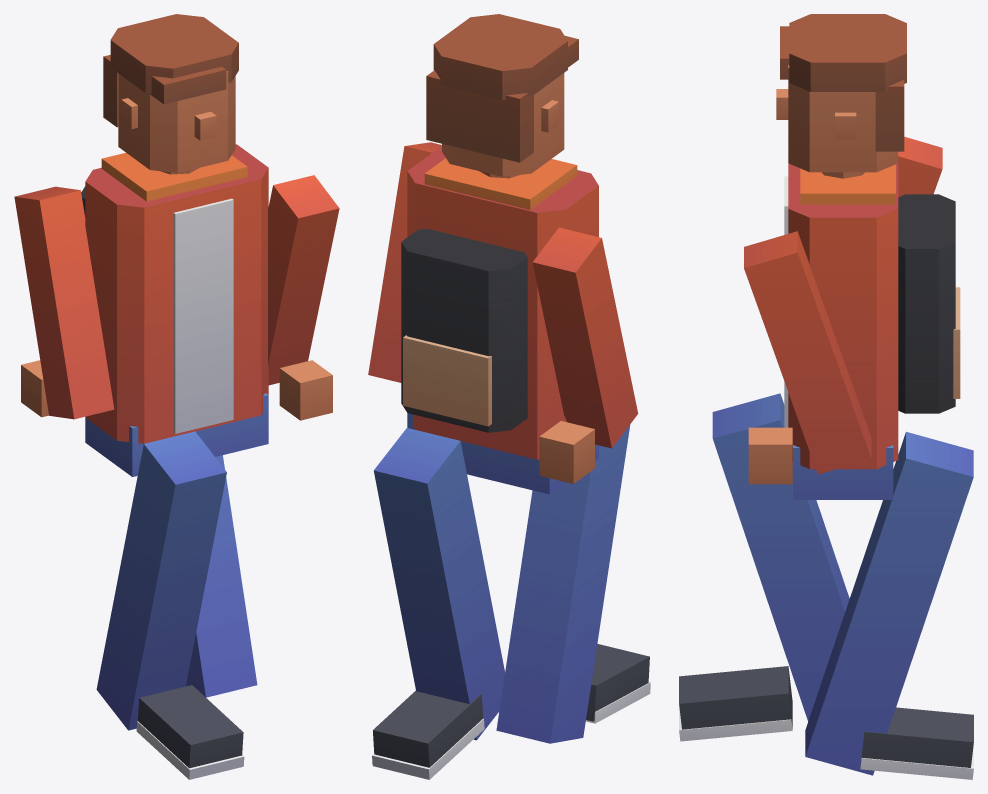
File: citizen_casual_m.glb
The picture shows the model from 3 angles, left to right: view 1: azimuth 30°, elevation 25°; view 2: azimuth 150°, elevation 25°; view 3: azimuth 270°, elevation 25°; orthographic projection. The views are drawn at different scales.
Visible parts, largest first — view 1: citizen_casual_m; view 2: citizen_casual_m; view 3: citizen_casual_m.
Boxes of the visible parts, <box> form: citizen_casual_m: <box>14,14,339,779</box>; citizen_casual_m: <box>368,14,650,779</box>; citizen_casual_m: <box>679,14,973,779</box>.
Bounding box in the file's own units: 0.596 × 1.63 × 0.6163.
Materials: 1 (1 with a texture image).
